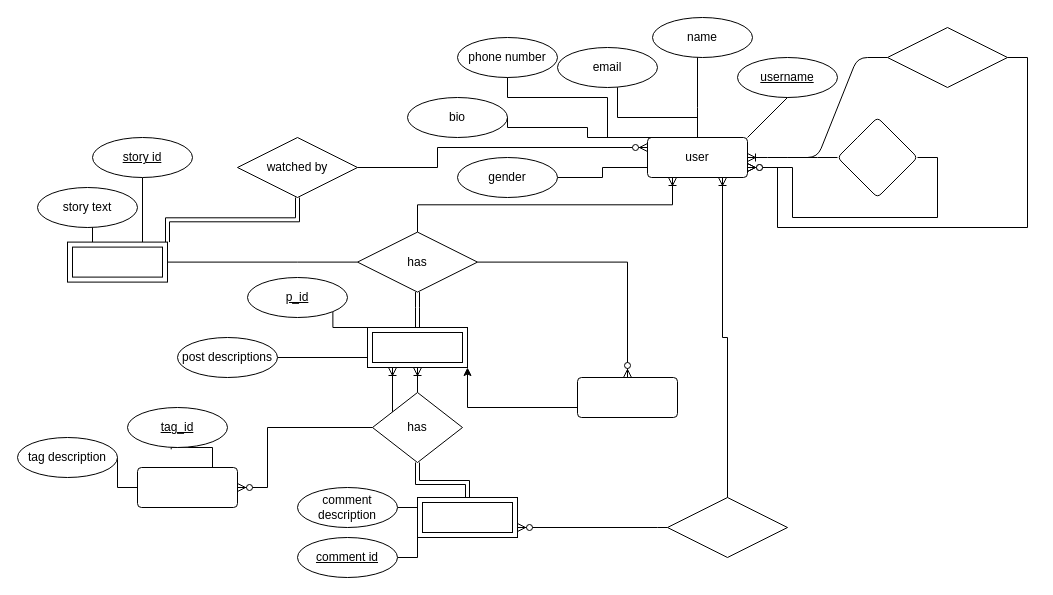
The diagram is 1053 pixels wide and 595 high, and some of its shapes have lost their labels. The centre of each missing label's shape, as x and y in pixels:
"comment" goes at (x=467, y=517).
"follow" goes at (x=877, y=157).
"followed by" goes at (x=947, y=57).
"post" goes at (x=417, y=347).
"saved post" goes at (x=627, y=397).
"story" goes at (x=117, y=261).
"tags" goes at (x=187, y=487).
"write" goes at (x=727, y=527).
